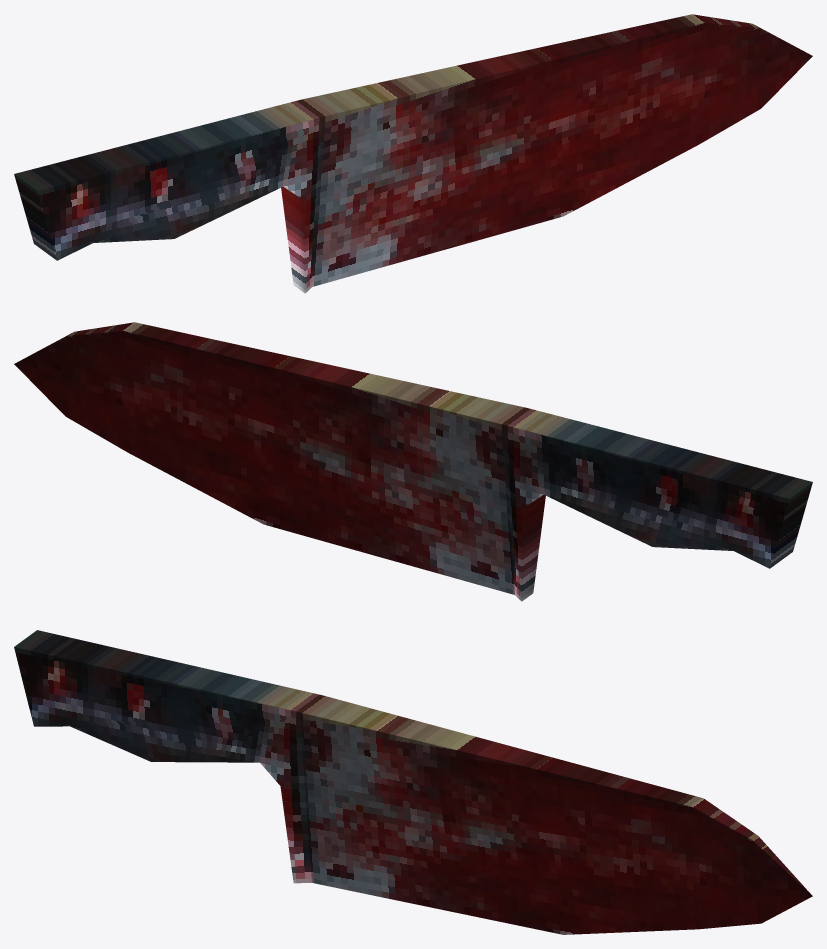
The picture shows the model from 3 angles, top to bottom: view 1: azimuth 30°, elevation 25°; view 2: azimuth 150°, elevation 25°; view 3: azimuth 330°, elevation 25°; orthographic projection.
Visible parts, largest first — view 1: ps1-meyers-knife-a_Material #26_0; view 2: ps1-meyers-knife-a_Material #26_0; view 3: ps1-meyers-knife-a_Material #26_0.
Part boxes in pixels (bbox=[...]): ps1-meyers-knife-a_Material #26_0: bbox=[14, 14, 812, 293]; ps1-meyers-knife-a_Material #26_0: bbox=[14, 322, 812, 601]; ps1-meyers-knife-a_Material #26_0: bbox=[14, 630, 812, 934].
Size of the model in its own units: 0.9954 by 0.2161 by 0.0508.
1 material, 1 textured.
